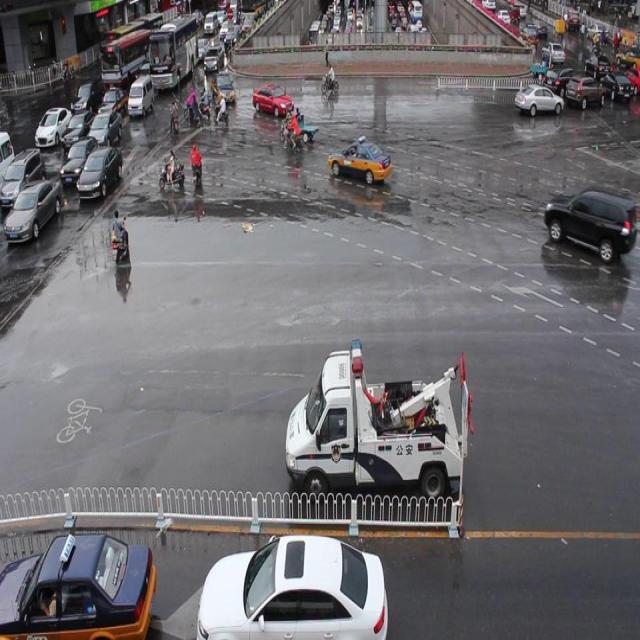bus: (285, 338, 464, 498)
car: (326, 140, 390, 185), (513, 82, 562, 116), (252, 82, 293, 117), (212, 72, 236, 106)
truck: (543, 186, 640, 260)
